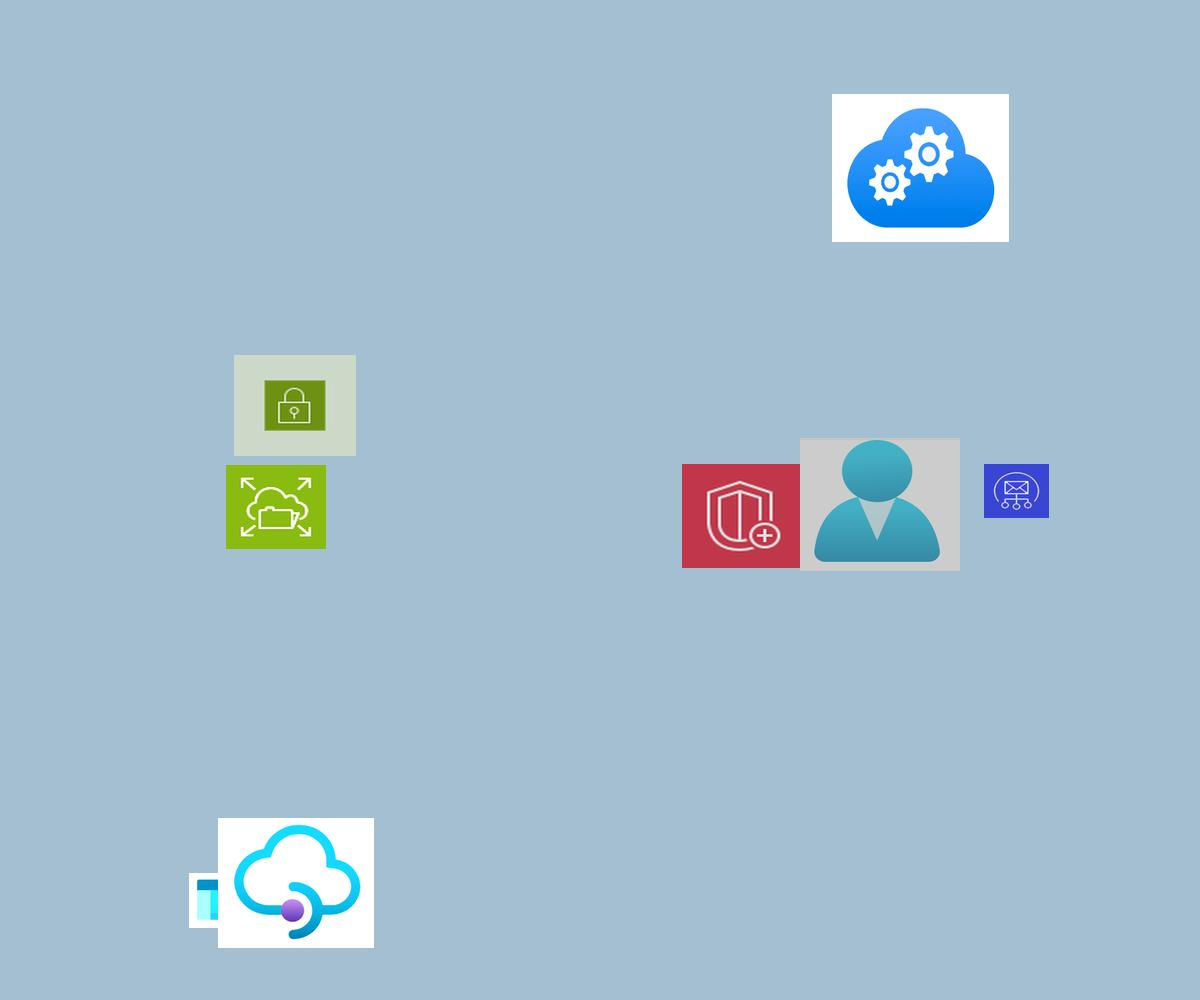AWS-EFS: (226, 465, 326, 549)
AWS-Public-subnet: (234, 355, 356, 456)
AWS-Shield: (682, 464, 807, 568)
AWS-Simple-Email-Service: (984, 464, 1049, 518)
Azure_api_gateway: (218, 818, 374, 948)
Azure_cloud_services: (832, 94, 1009, 242)
Azure_management-portal: (189, 873, 255, 928)
Azure_users: (800, 438, 960, 571)
